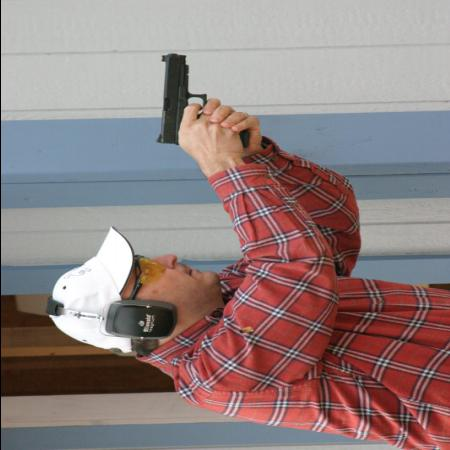Pistol: (154, 54, 249, 150)
